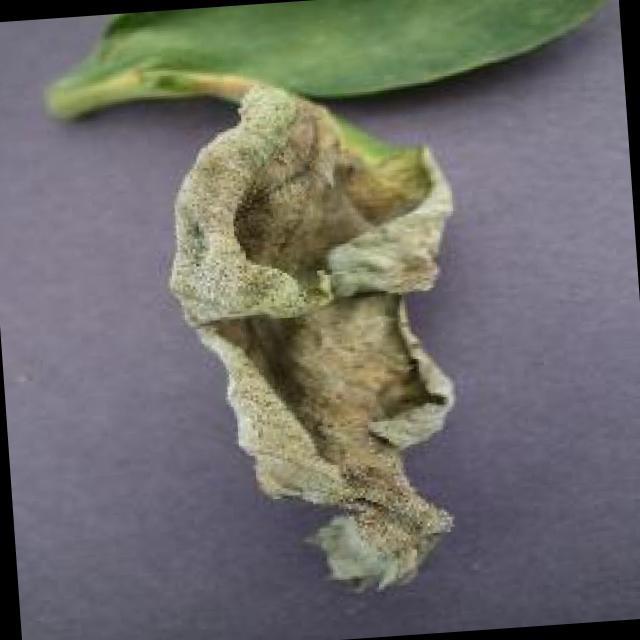Tomato_Late_Blight: (150, 118, 495, 606)
